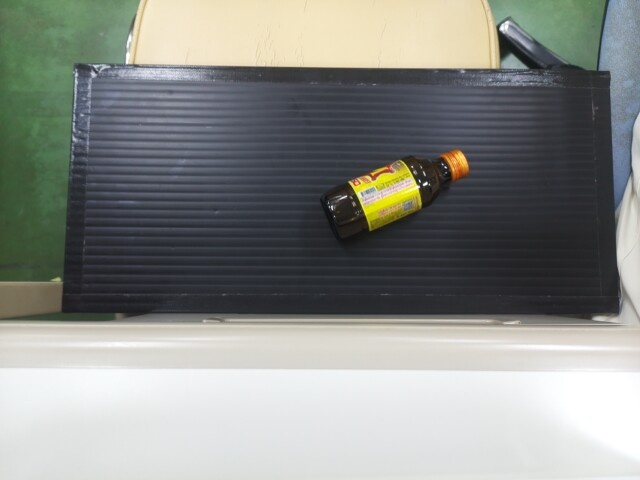glass_bottle: (316, 143, 466, 232)
